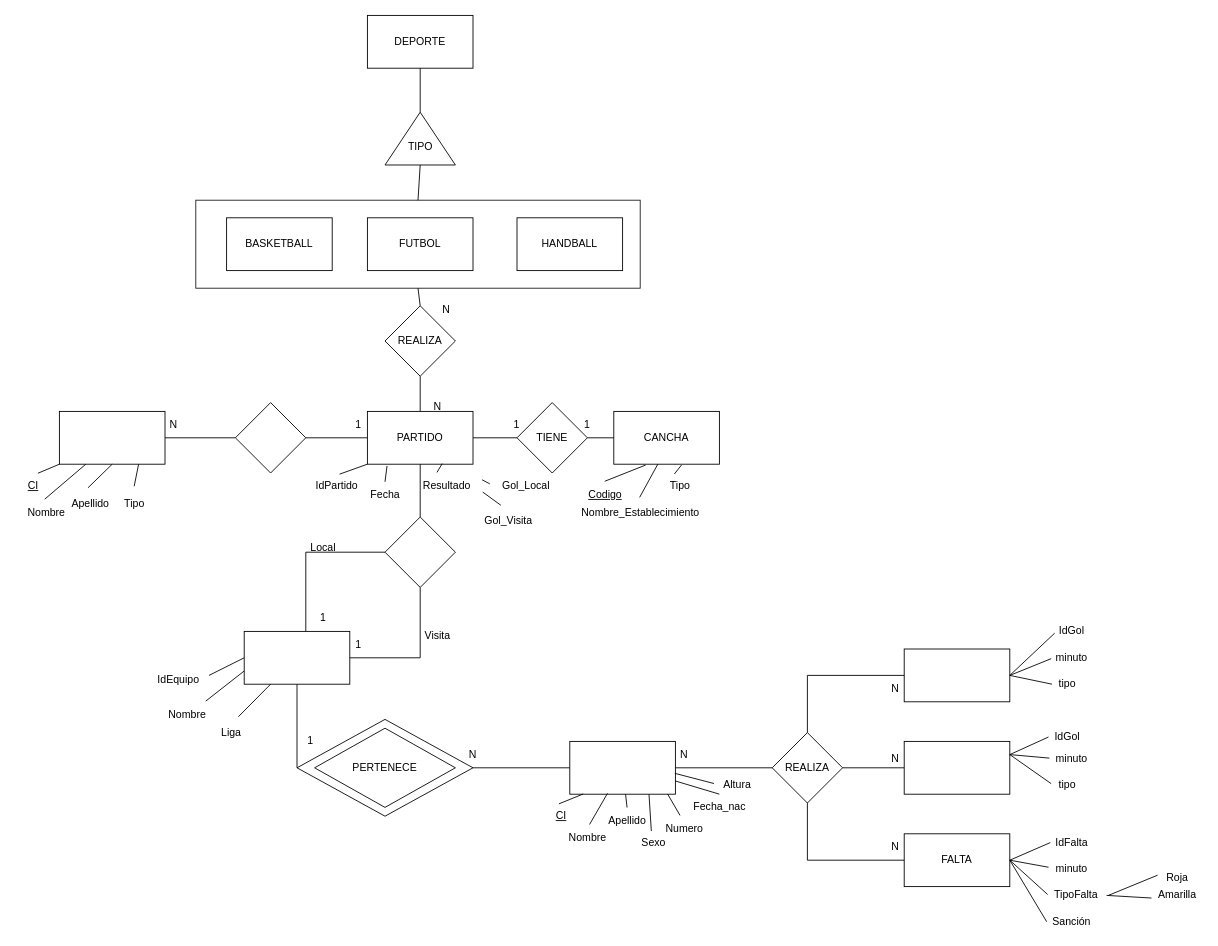
Some shapes in this 1218 by 946 pixel diagram are drawn without their labels. Each missing label, with the centre of its shape:
ARBITRO: the point at 112,437
ASISTENCIA: the point at 956,767
DIRIGE: the point at 270,437
DISPUTAN: the point at 419,551
EQUIPO: the point at 296,657
GOL: the point at 956,675
JUGADOR: the point at 622,767
